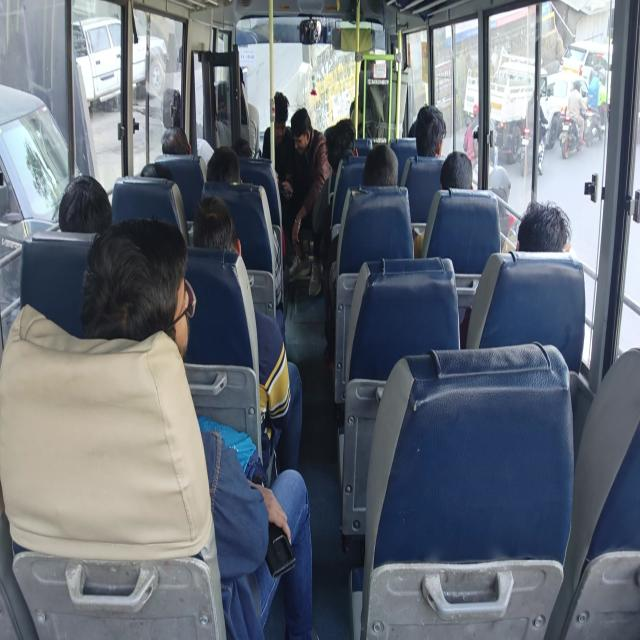person: (120, 246, 201, 374), (54, 156, 109, 239), (526, 200, 580, 269), (126, 144, 184, 208), (437, 159, 491, 210), (189, 210, 244, 253), (349, 56, 396, 105), (167, 108, 198, 173), (172, 81, 208, 131), (361, 165, 402, 203), (329, 125, 367, 164), (416, 111, 446, 159), (231, 125, 259, 169), (296, 99, 316, 159), (232, 60, 253, 117), (205, 159, 239, 191), (269, 93, 288, 133)
